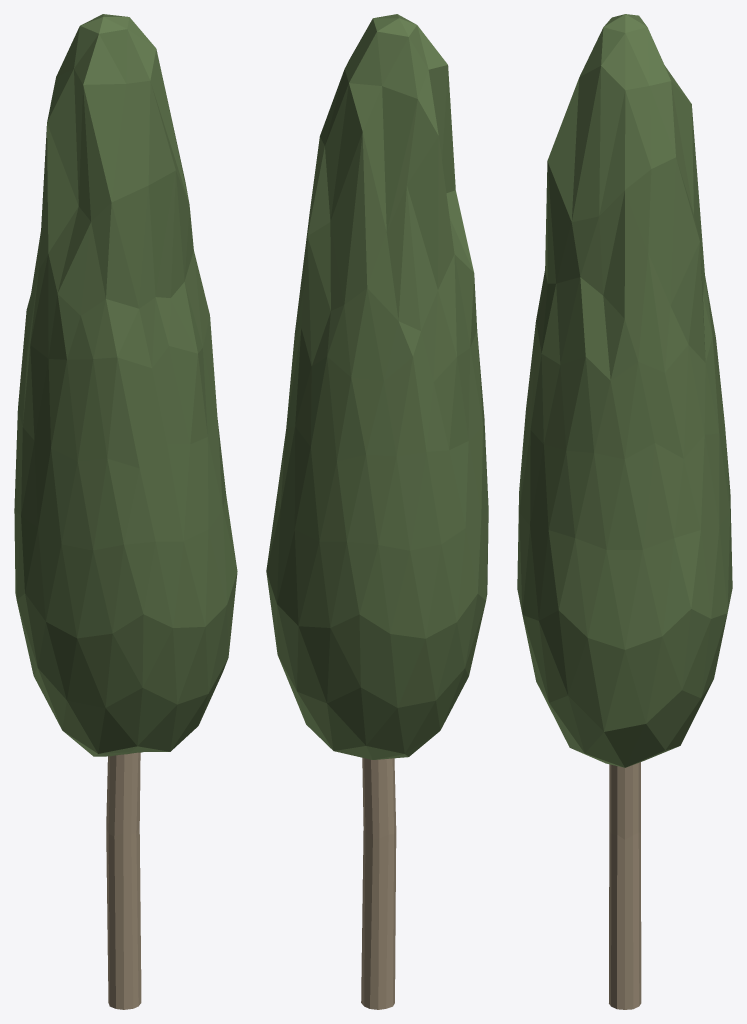
File: greek_tree_2.fbx
The picture shows the model from 3 angles, left to right: view 1: azimuth 30°, elevation 25°; view 2: azimuth 150°, elevation 25°; view 3: azimuth 270°, elevation 25°; orthographic projection.
Visible parts, largest first — view 1: Cylinder.003; view 2: Cylinder.003; view 3: Cylinder.003.
Part boxes in pixels (x1=…): Cylinder.003: x1=14, y1=14, x2=237, y2=1009; Cylinder.003: x1=266, y1=14, x2=488, y2=1009; Cylinder.003: x1=517, y1=14, x2=732, y2=1009.
Size of the model in its own units: 196 by 949 by 189.
